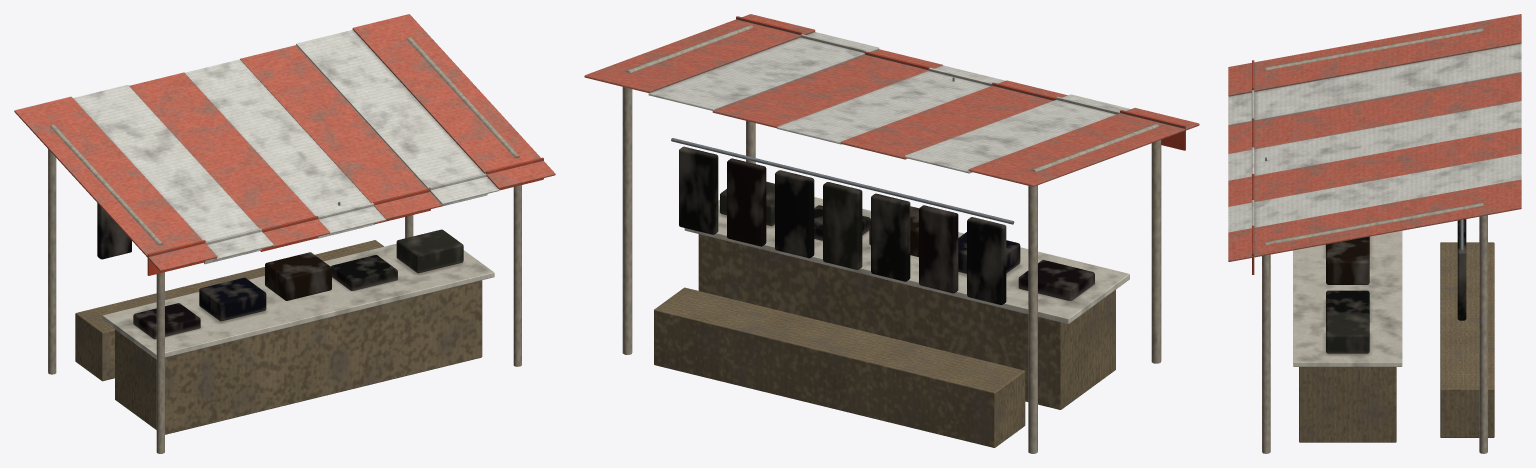
Rendered from bazar_stoisko_0.glb.
3 views of the same model, side by side, from view 1: azimuth 30°, elevation 25°; view 2: azimuth 150°, elevation 25°; view 3: azimuth 270°, elevation 25° (orthographic). The views are drawn at different scales.
Parts seen in each view (by area): view 1: Stoisko; view 2: Stoisko; view 3: Stoisko.
Part boxes in pixels (x1=…): Stoisko: x1=14, y1=14, x2=555, y2=453; Stoisko: x1=584, y1=14, x2=1199, y2=453; Stoisko: x1=1228, y1=14, x2=1521, y2=453.
Bounding box in the file's own units: 4.21 × 2.58 × 2.7.
1 material, 1 textured.
